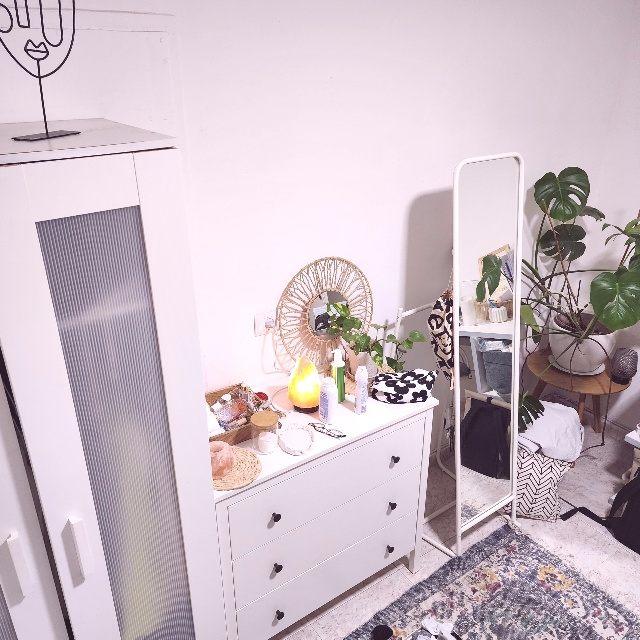glasses: (307, 417, 346, 440)
